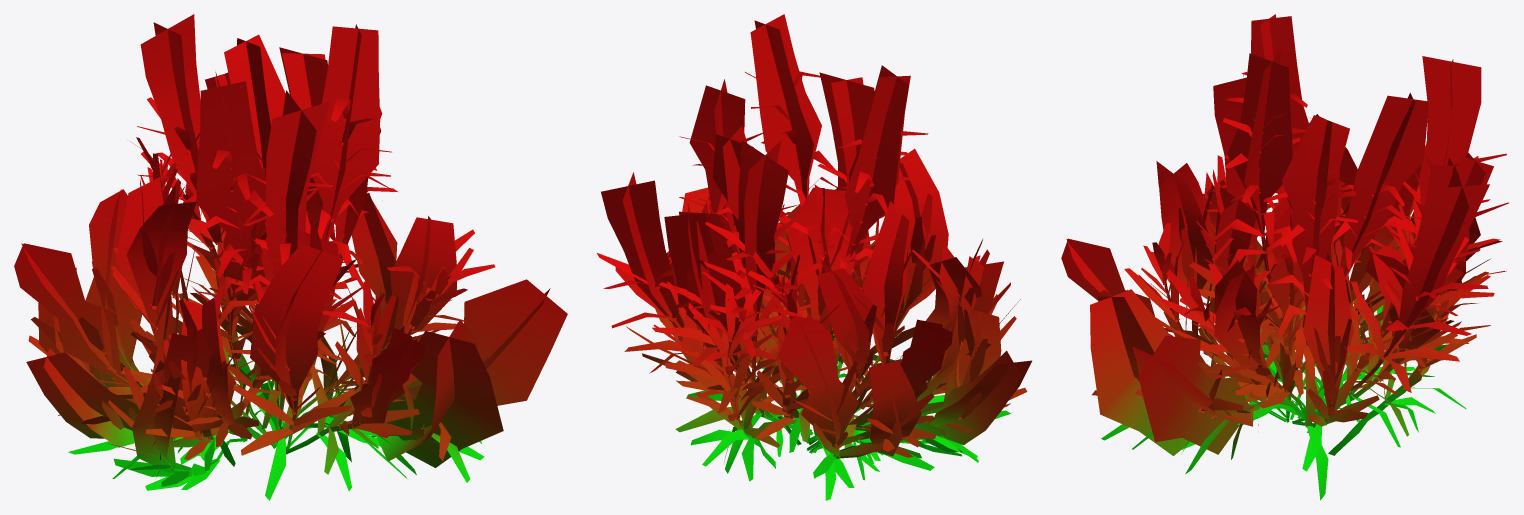
Rendered from Var3_LOD4.fbx.
3 views of the same model, side by side, from view 1: azimuth 30°, elevation 25°; view 2: azimuth 150°, elevation 25°; view 3: azimuth 270°, elevation 25° (orthographic). The views are drawn at different scales.
Parts seen in each view (by area): view 1: _rg0b_Var3_LOD4; view 2: _rg0b_Var3_LOD4; view 3: _rg0b_Var3_LOD4.
Part boxes in pixels (box(x1,y1,x2,y2)): _rg0b_Var3_LOD4: box(14, 14, 567, 500); _rg0b_Var3_LOD4: box(597, 14, 1031, 500); _rg0b_Var3_LOD4: box(1061, 14, 1508, 500).
Size of the model in its own units: 33.18 by 33.13 by 30.96.
